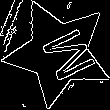M_SW: (25, 20, 92, 85)
